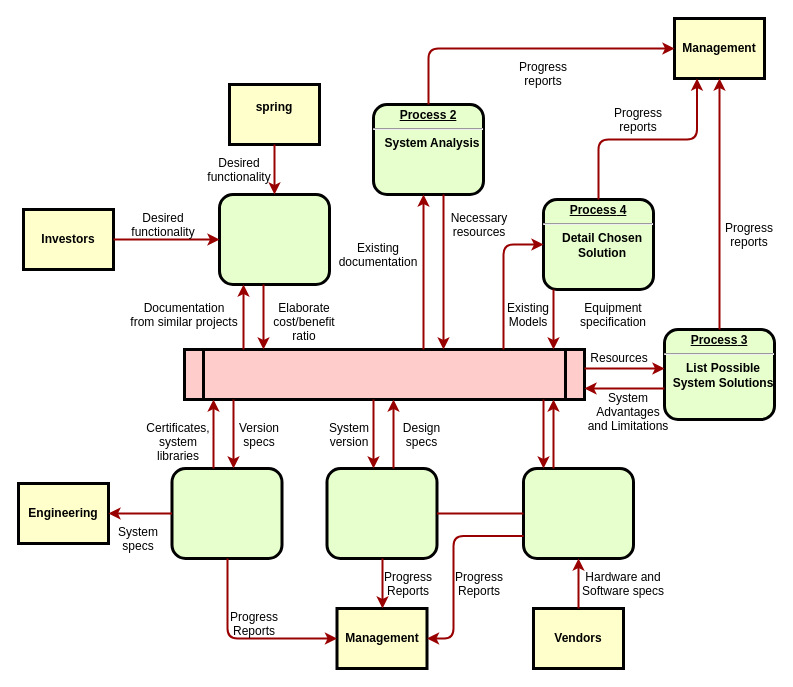
Some shapes in this 793 by 687 pixel diagram are drawn without their labels. The shapes that lost their labels are listed below. From the top down, each one's box as (x1, y1, x2, y2) in pixels, then its label:
(218, 192, 330, 286): Process 1 System Study Preparation
(182, 348, 586, 400): ON-DEMAND SYSTEM DEVELOPMENT
(170, 466, 283, 560): Process 6 New System Construction
(325, 466, 438, 560): Process 7 New System Startup and Testing
(522, 466, 634, 560): Process 5 New System Design
